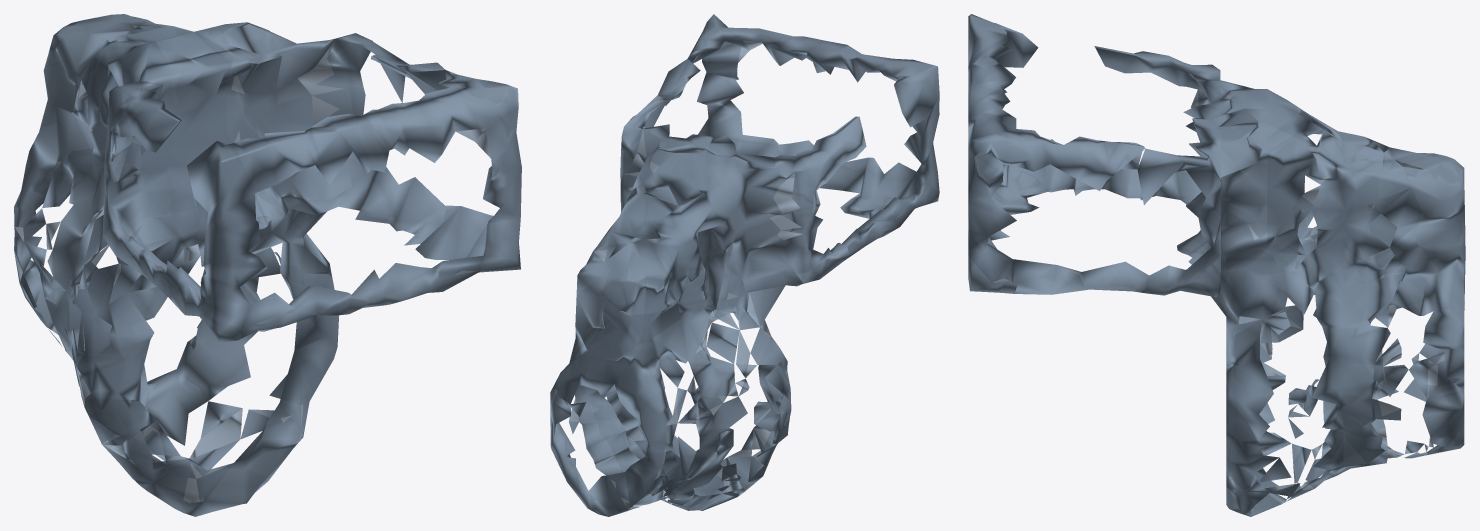
Rendered from toilet_0015_original.obj.
3 renders of one model, left to right at view 1: azimuth 30°, elevation 25°; view 2: azimuth 150°, elevation 25°; view 3: azimuth 270°, elevation 25°, orthographic. The views are drawn at different scales.
Size of the model in its own units: 0.8376 by 1.35 by 1.41.
